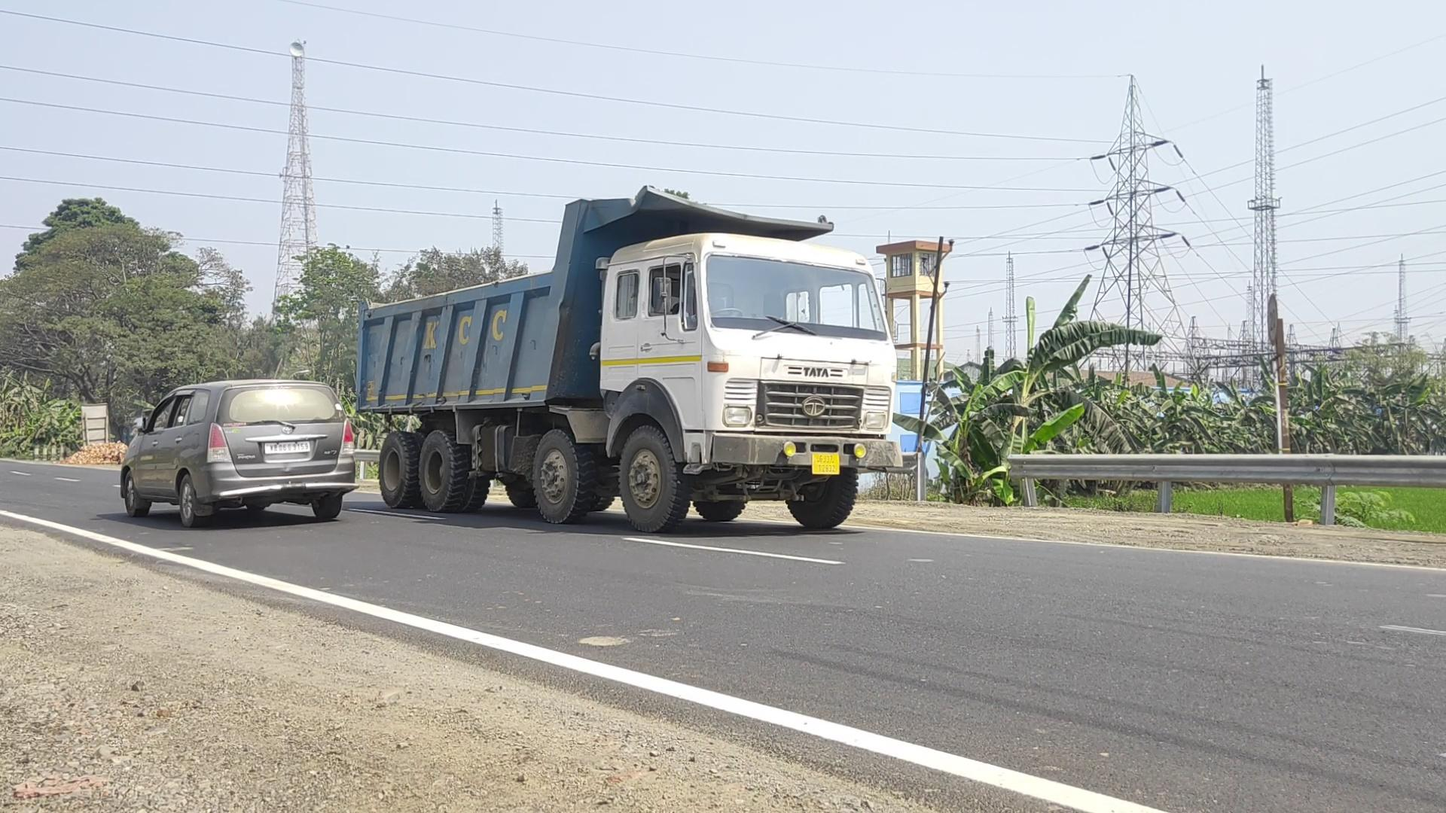car: (120, 379, 359, 528)
truck: (355, 185, 901, 534)
